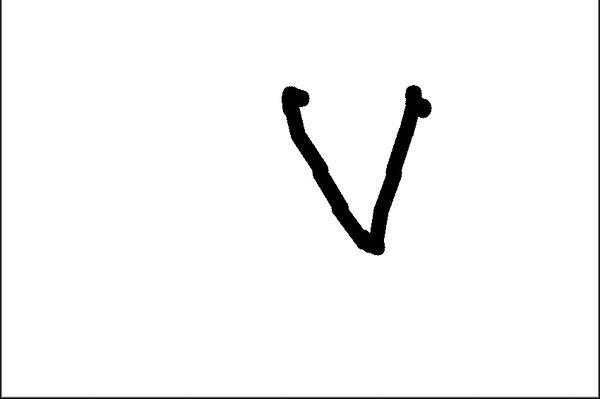V: (270, 70, 444, 259)
